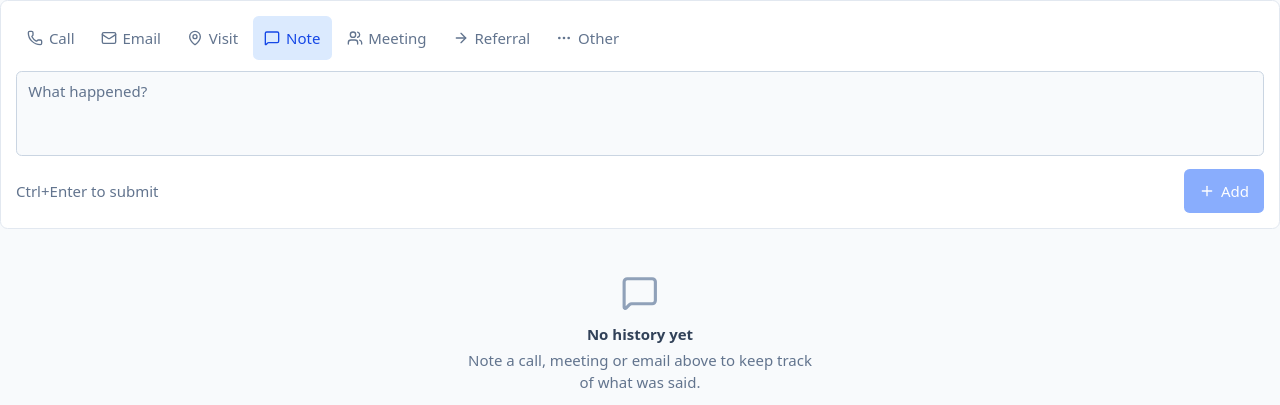
ContactInteractionLog › Add button is enabled when textarea has content
Step 1. Type "Called about referral" into the text box with placeholder "What happened?" → (640,114), box [16,71,1264,156]
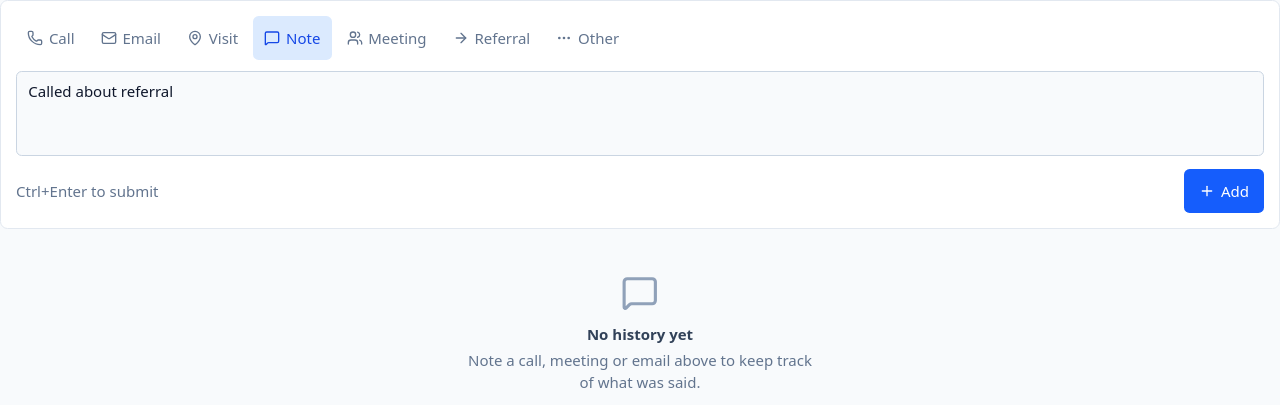
expect the button "Add" is enabled: met, box [1184,169,1264,213]
